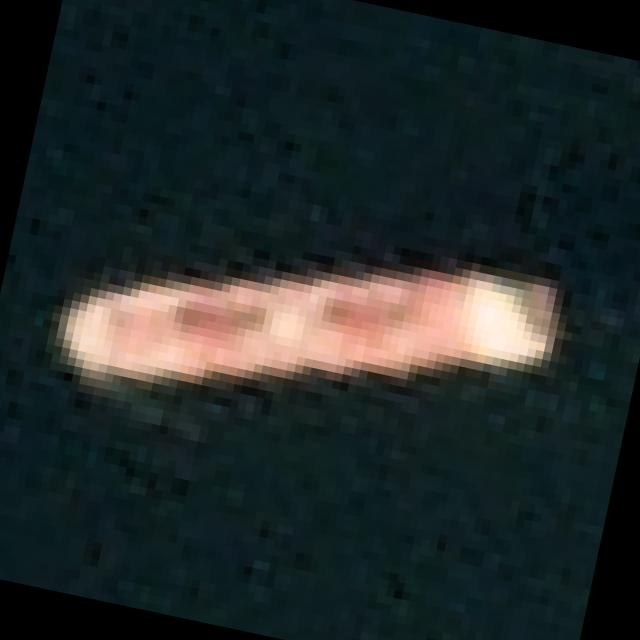ship: (28, 164, 582, 518)
